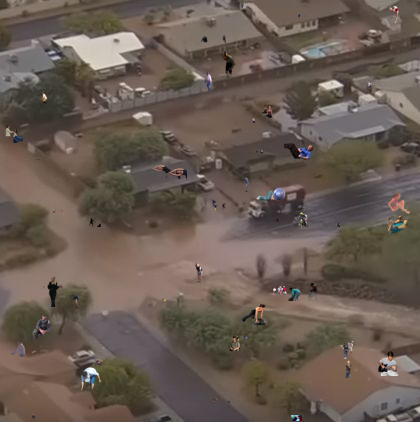Human: (195, 263, 217, 288), (378, 351, 400, 376), (241, 304, 267, 325), (250, 188, 286, 203), (80, 367, 102, 391), (387, 192, 411, 214), (288, 283, 317, 301), (32, 313, 52, 339), (228, 334, 258, 351), (284, 143, 314, 160), (37, 91, 61, 112), (47, 276, 63, 307), (9, 342, 42, 357), (152, 165, 187, 179), (221, 51, 236, 82), (387, 215, 409, 234), (3, 125, 23, 143), (336, 341, 356, 359), (201, 35, 226, 45), (64, 295, 79, 310), (297, 212, 309, 229), (204, 72, 212, 97), (211, 199, 226, 211), (345, 360, 355, 378), (389, 6, 399, 23), (262, 105, 273, 118), (273, 286, 287, 295), (89, 218, 101, 227), (91, 359, 103, 366), (211, 399, 231, 403), (244, 176, 249, 192), (291, 415, 302, 421), (368, 81, 376, 88), (53, 209, 65, 213), (256, 149, 263, 154), (33, 157, 40, 161), (241, 1, 244, 10), (336, 222, 340, 227), (162, 298, 167, 302), (276, 216, 279, 222), (252, 117, 255, 123), (32, 413, 35, 419), (42, 283, 45, 289), (298, 13, 301, 19)
